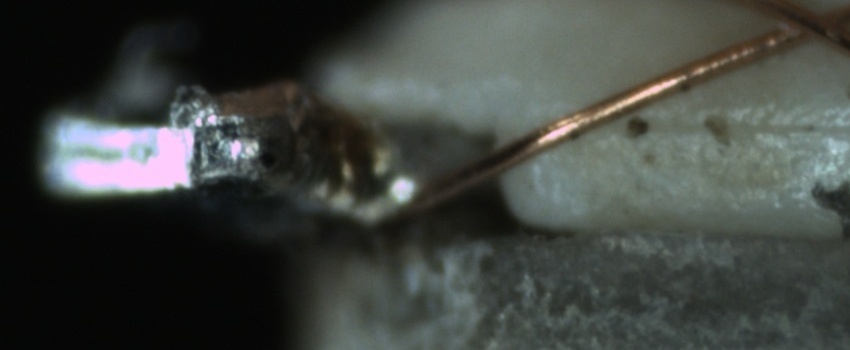CL: (758, 4, 846, 53)
DL: (608, 91, 848, 159)
